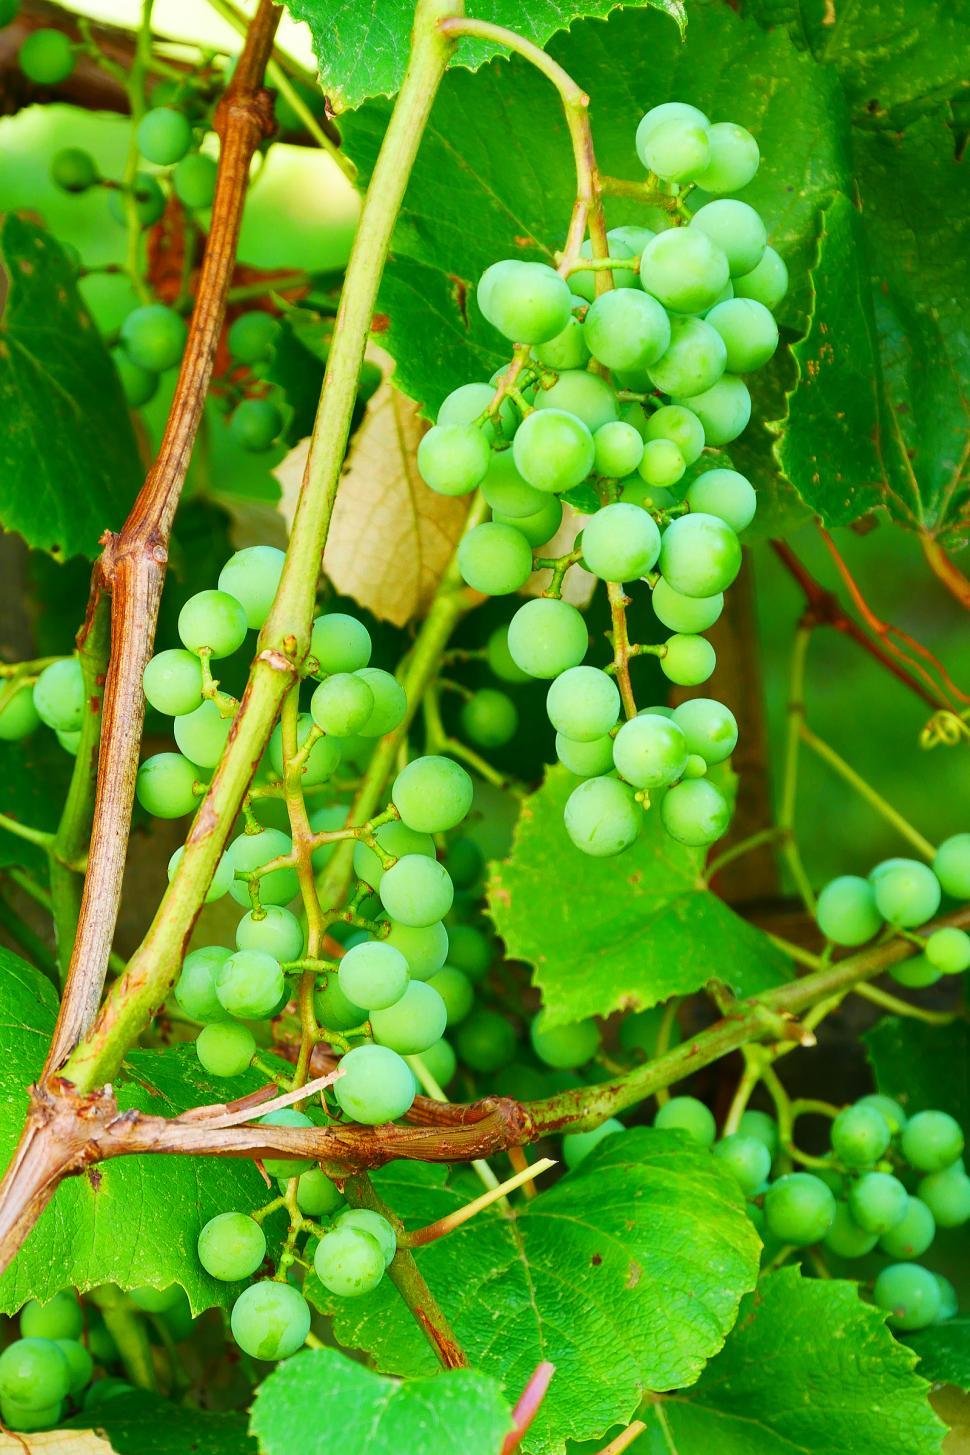grapes: (464, 109, 839, 862), (115, 582, 457, 1347), (706, 1120, 970, 1324)
